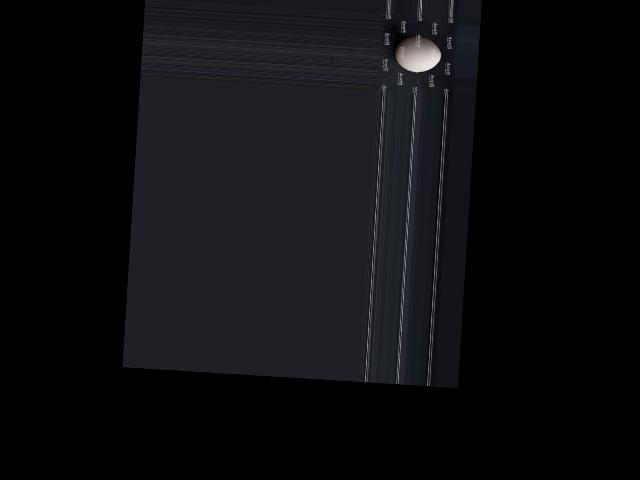egg: (393, 35, 441, 73)
